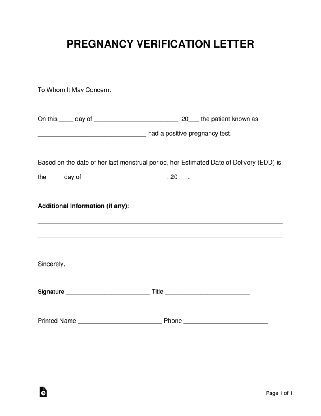textline: (35, 231, 288, 245), (34, 215, 287, 228), (164, 286, 255, 301), (182, 316, 275, 330), (93, 113, 182, 126), (35, 129, 149, 139), (65, 285, 152, 298), (82, 171, 169, 183), (76, 317, 164, 328), (56, 115, 76, 124), (177, 174, 193, 184), (47, 173, 64, 182), (189, 118, 203, 124)
